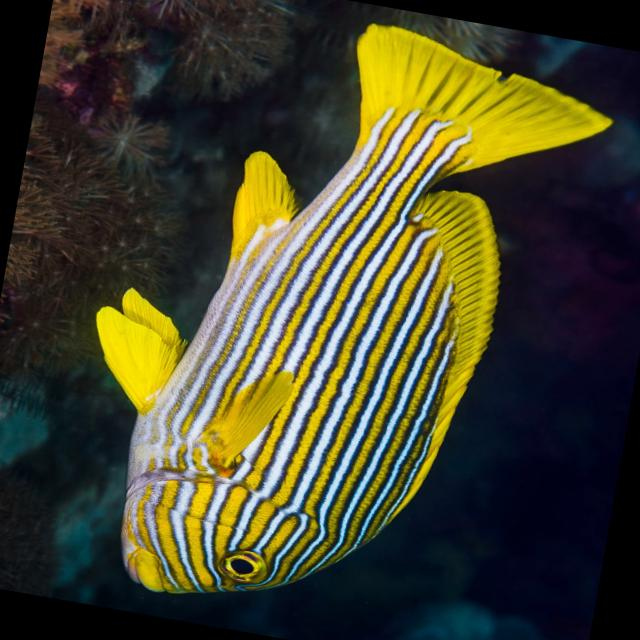RibbonedSweetlips: (48, 0, 624, 640)
